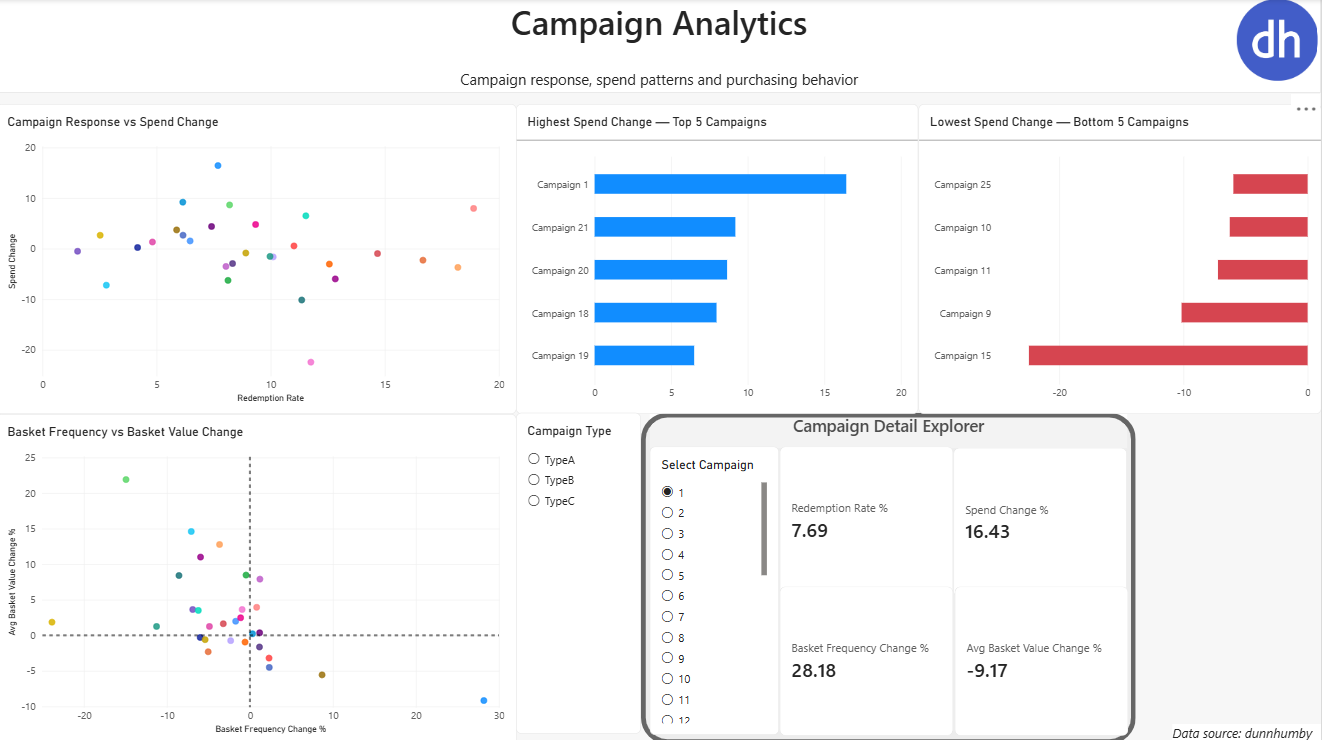

What the dashboard file says about the page in this screenshot:
{"tool":"powerbi","page":{"name":"Campaign Analytics ","canvas":[1920,1080],"ordinal":0},"visuals":[{"type":"textbox","box":[946.8,601,691.6,49.4],"z":0},{"type":"shape","box":[934.5,599,716.3,479.6],"z":1000},{"type":"scatterChart","title":"Campaign Response vs Spend Change","fields":{"Series":["campaign_analytical_summary.CAMPAIGN"],"X":["campaign_analytical_summary.redemption_rate_pct"],"Y":["campaign_analytical_summary.spend_change_pct"]},"box":[0,152.3,753.3,448.7],"z":2000},{"type":"clusteredBarChart","title":"Highest Spend Change — Top 5 Campaigns","fields":{"Category":["campaign_analytical_summary.Campaign Label"],"Y":["Sum(campaign_analytical_summary.spend_change_pct)"]},"box":[753.3,152.3,582.5,448.7],"z":3000},{"type":"clusteredBarChart","title":"Lowest Spend Change — Bottom 5 Campaigns","fields":{"Category":["campaign_analytical_summary.Campaign Label"],"Y":["Sum(campaign_analytical_summary.spend_change_pct)"]},"box":[1335.9,152.3,584.6,448.7],"z":4000},{"type":"scatterChart","title":"Basket Frequency vs Basket Value Change","fields":{"Series":["campaign_analytical_summary.Campaign Label"],"X":["campaign_analytical_summary.basket_change_pct"],"Y":["campaign_analytical_summary.avg_basket_value_change_pct"]},"box":[0,601,753.3,479.6],"z":5000},{"type":"listSlicer","title":"Select Campaign","fields":{"Values":["campaign_analytical_summary.CAMPAIGN"]},"box":[946.8,648.4,187.3,417.8],"z":6000},{"type":"cardVisual","fields":{"Data":["Avg(campaign_analytical_summary.redemption_rate_pct)"]},"box":[1135,648.6,251.1,216.1],"z":7000},{"type":"cardVisual","fields":{"Data":["Avg(campaign_analytical_summary.basket_change_pct)"]},"box":[1134.1,850.1,251.1,216.1],"z":8000},{"type":"cardVisual","fields":{"Data":["Avg(campaign_analytical_summary.spend_change_pct)"]},"box":[1386.1,650.2,251.1,216.1],"z":9000},{"type":"cardVisual","fields":{"Data":["Avg(campaign_analytical_summary.avg_basket_value_change_pct)"]},"box":[1387.3,850.1,251.1,216.1],"z":10000},{"type":"textbox","box":[0,0,753,449],"z":11000},{"type":"textbox","box":[0,0,1920.4,135.8],"z":12000},{"type":"image","box":[1792,0,128,118],"z":13000},{"type":"textbox","box":[1702.2,1049.7,218.2,30.9],"z":14000},{"type":"listSlicer","title":"Campaign Type","fields":{"Values":["campaign_analytical_summary.DESCRIPTION"]},"box":[752.8,599,181.1,465.2],"z":15000}]}

Visuals, with their boxes in screenshot pixels (x1, y1, x2, y2), scaled from the page's 1920x1080 canvas onto the 1322x740 screenshot:
textbox: (x1=652, y1=412, x2=1128, y2=446)
shape: (x1=643, y1=410, x2=1137, y2=739)
"Campaign Response vs Spend Change" scatterChart: (x1=0, y1=104, x2=519, y2=412)
"Highest Spend Change — Top 5 Campaigns" clusteredBarChart: (x1=519, y1=104, x2=920, y2=412)
"Lowest Spend Change — Bottom 5 Campaigns" clusteredBarChart: (x1=920, y1=104, x2=1321, y2=412)
"Basket Frequency vs Basket Value Change" scatterChart: (x1=0, y1=412, x2=519, y2=739)
"Select Campaign" listSlicer: (x1=652, y1=444, x2=781, y2=731)
cardVisual - Avg(campaign_analytical_summary.redemption_rate_pct): (x1=781, y1=444, x2=954, y2=592)
cardVisual - Avg(campaign_analytical_summary.basket_change_pct): (x1=781, y1=582, x2=954, y2=731)
cardVisual - Avg(campaign_analytical_summary.spend_change_pct): (x1=954, y1=446, x2=1127, y2=594)
cardVisual - Avg(campaign_analytical_summary.avg_basket_value_change_pct): (x1=955, y1=582, x2=1128, y2=731)
textbox: (x1=0, y1=0, x2=518, y2=308)
textbox: (x1=0, y1=0, x2=1321, y2=93)
image: (x1=1234, y1=0, x2=1321, y2=81)
textbox: (x1=1172, y1=719, x2=1321, y2=739)
"Campaign Type" listSlicer: (x1=518, y1=410, x2=643, y2=729)
